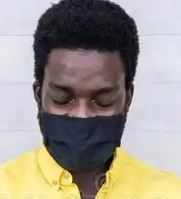with_facemask: (40, 105, 122, 170)
